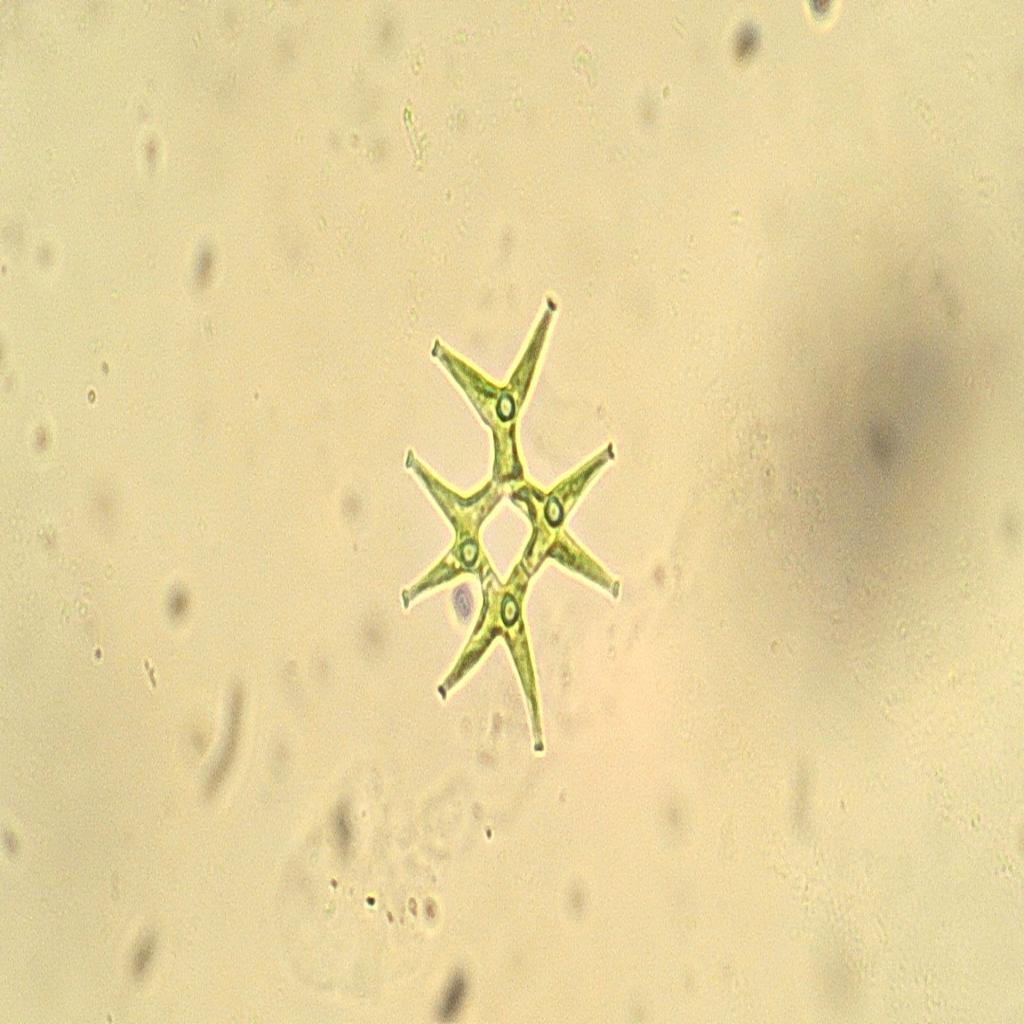Pediastrum_CT: (389, 272, 628, 777)
